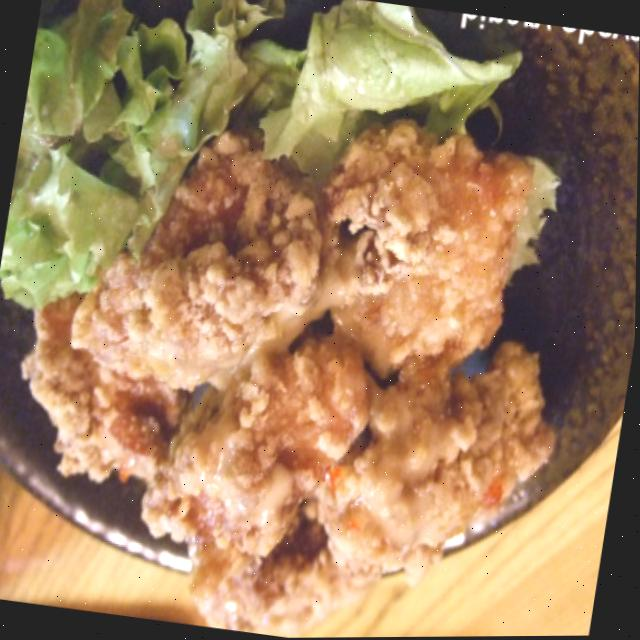鸡肉料理 含炸鸡: (40, 71, 591, 640)
